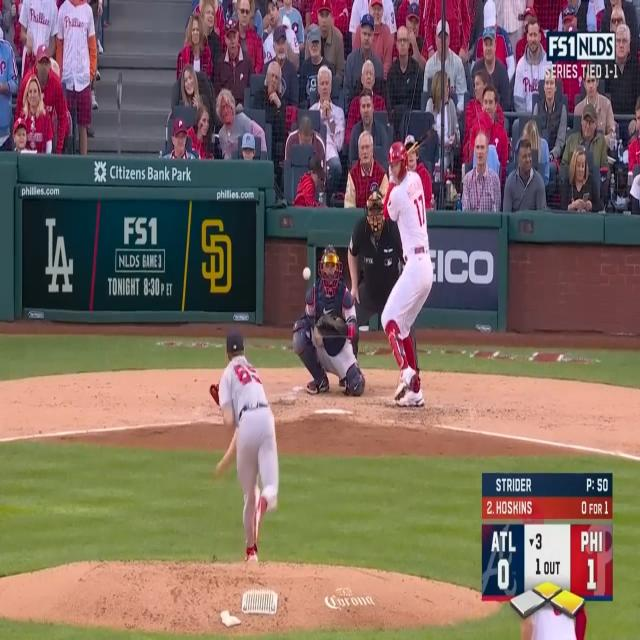baseball: (302, 266, 311, 282)
